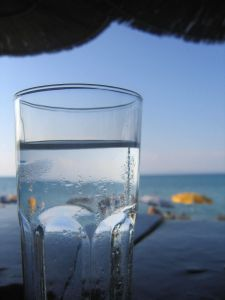glass of water: (23, 93, 131, 293)
